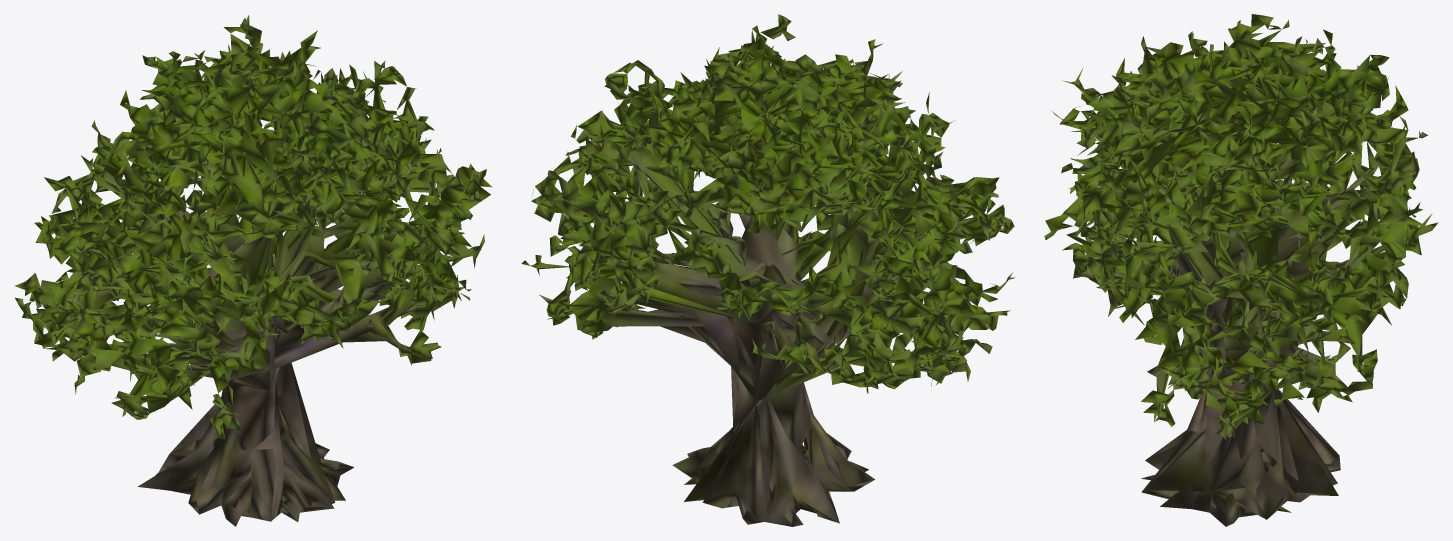
The model's file is 06_tree.glb.
3 renders of one model, left to right at view 1: azimuth 30°, elevation 25°; view 2: azimuth 150°, elevation 25°; view 3: azimuth 270°, elevation 25°, orthographic. The views are drawn at different scales.
Visible parts, largest first — view 1: LOW; view 2: LOW; view 3: LOW.
Boxes of the visible parts, x1=… form: LOW: x1=15, y1=15, x2=492, y2=526; LOW: x1=521, y1=14, x2=1015, y2=526; LOW: x1=1044, y1=14, x2=1438, y2=526.
Size of the model in its own units: 0.9967 by 0.9813 by 0.7655.
1 material, 1 textured.
